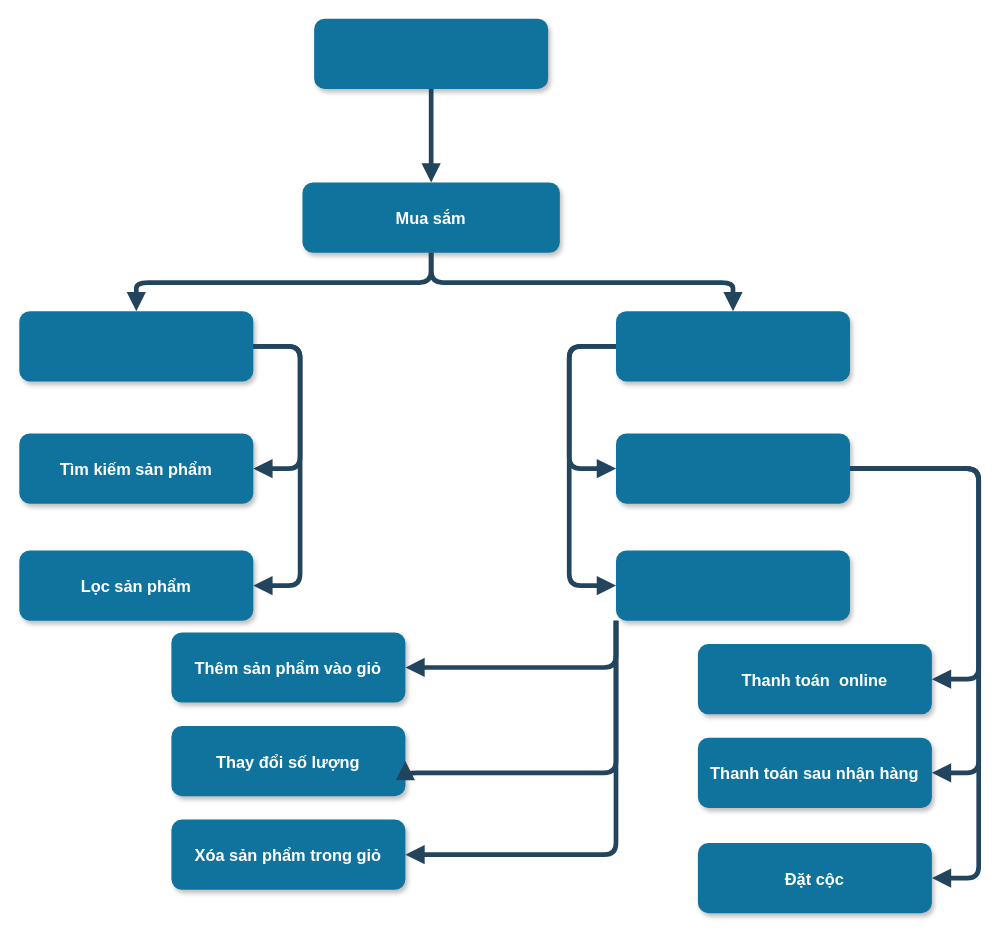
This 998x932 diagram has some shape labels left out. Each missing label, with the centre of its shape:
"Cập nhật giỏ hàng" belongs at point (733, 586).
"Khách hàng" belongs at point (432, 55).
"Thêm vào giỏ hàng" belongs at point (733, 347).
"Xem sản phẩm" belongs at point (137, 347).
"Đặt hàng" belongs at point (733, 469).
